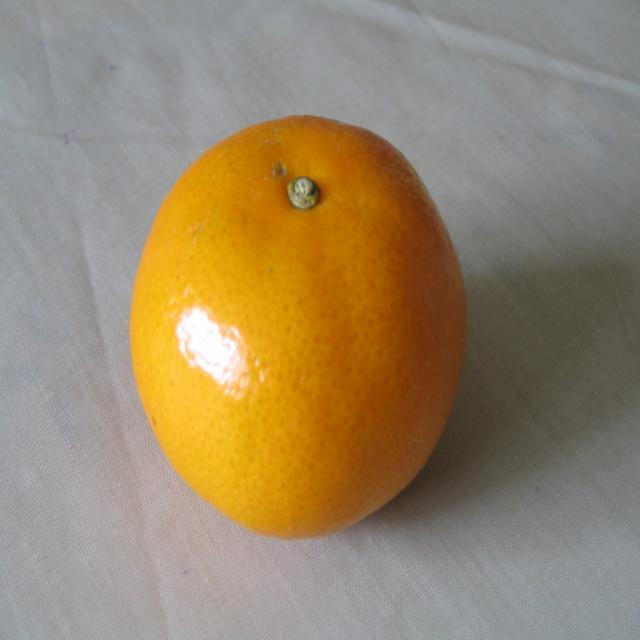Orange: (135, 118, 467, 532)
